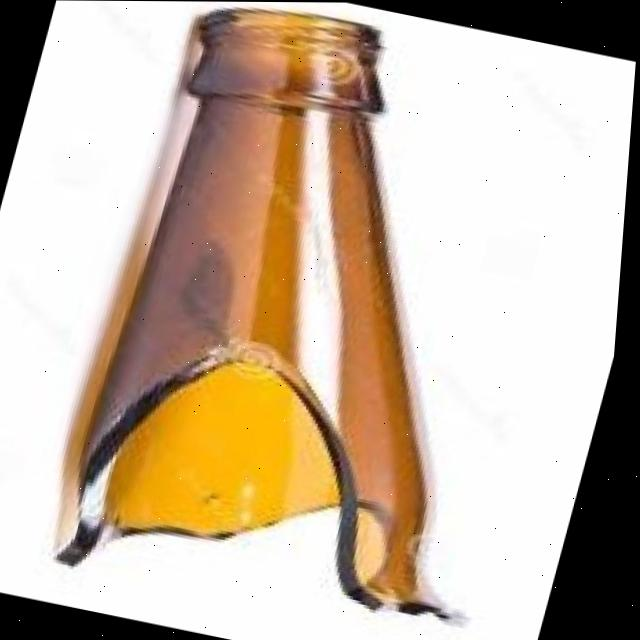Dry: (53, 1, 614, 640)
